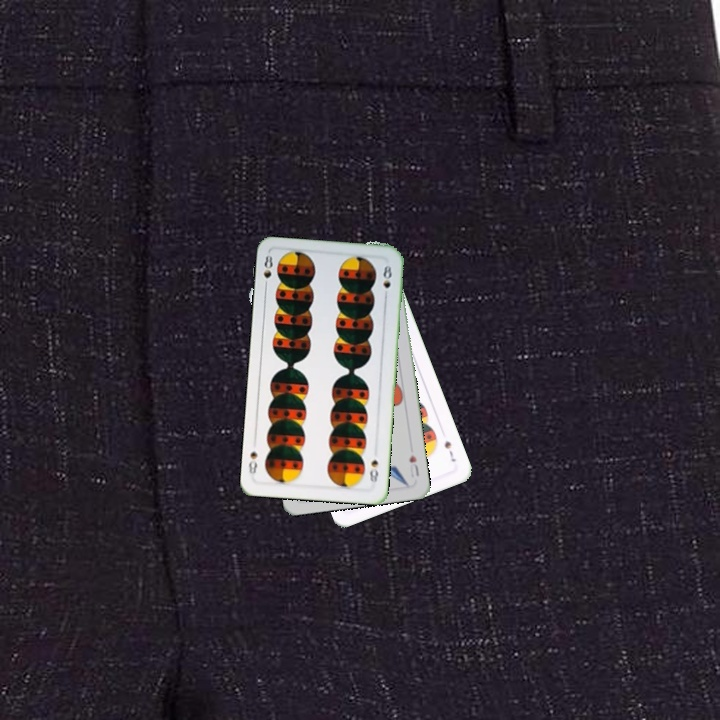HU: (405, 451, 421, 480)
S7: (440, 437, 459, 464)
S8: (260, 252, 275, 292), (365, 456, 381, 486)
